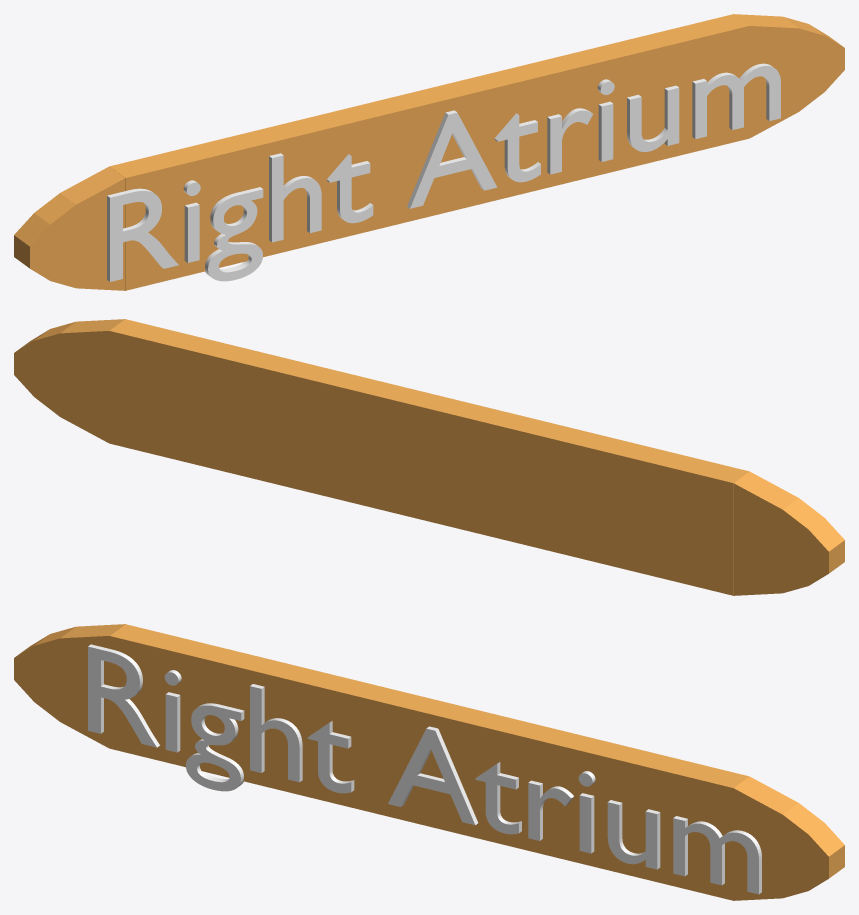
The model's file is txtRightAtrium.fbx.
3 renders of one model, top to bottom at view 1: azimuth 30°, elevation 25°; view 2: azimuth 150°, elevation 25°; view 3: azimuth 330°, elevation 25°, orthographic.
Parts seen in each view (by area): view 1: TagContainer.035, Text.036; view 2: TagContainer.035; view 3: TagContainer.035, Text.036.
Boxes of the visible parts, x1,y1,x2,y2 form: TagContainer.035: (14,14,844,290); Text.036: (107,63,780,281); TagContainer.035: (14,319,844,595); TagContainer.035: (14,624,844,900); Text.036: (88,644,761,894).
Size of the model in its own units: 312 by 46.03 by 12.69.
